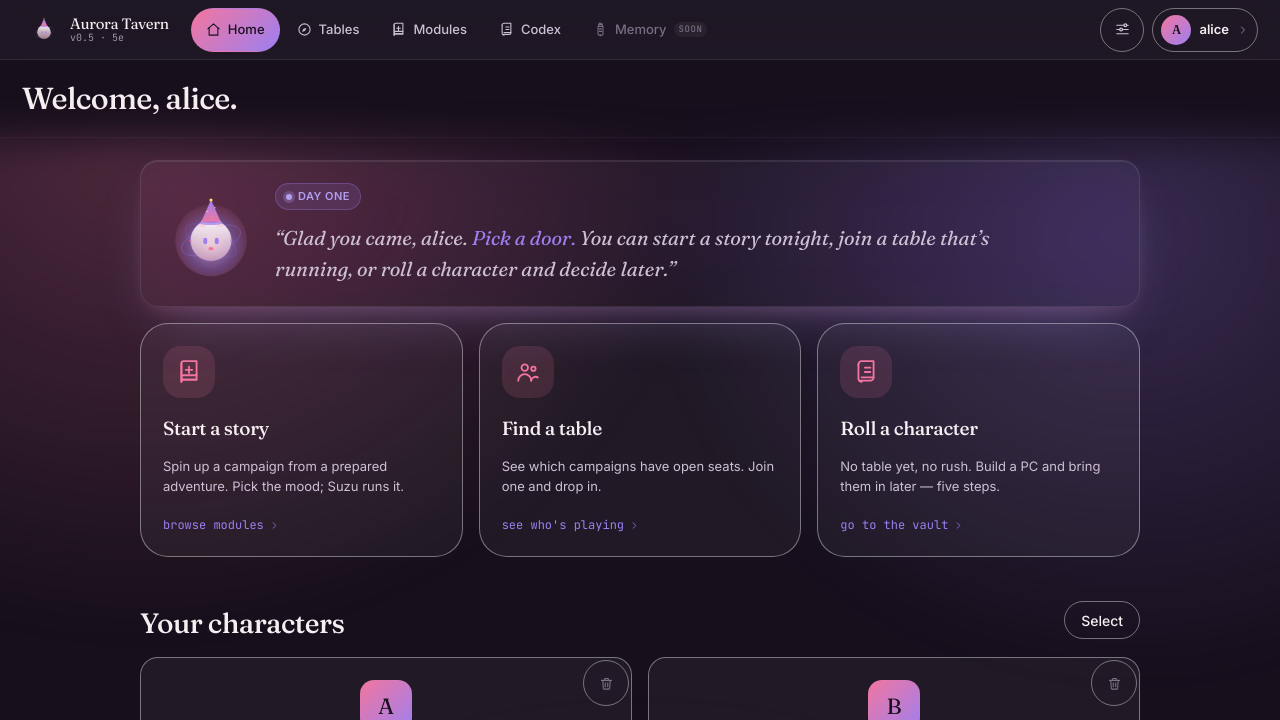
Test case: Bulk delete — characters grid, select mode › partial failure: one delete rejects → toast reports the failure count, loop does not throw
Click the button "Select".
click(1102, 620)  # box [1064, 601, 1140, 639]
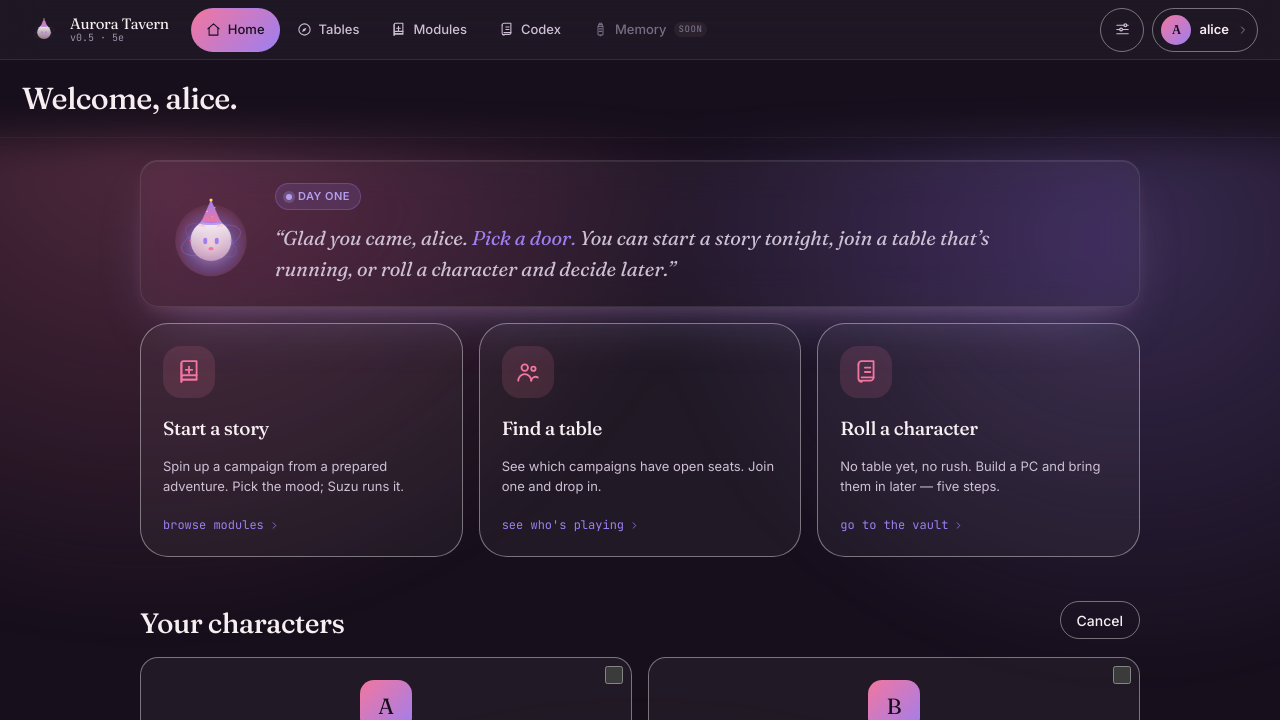
Click the checkbox named "select aria".
click(614, 675)  # box [605, 666, 623, 684]
(page scrolled)
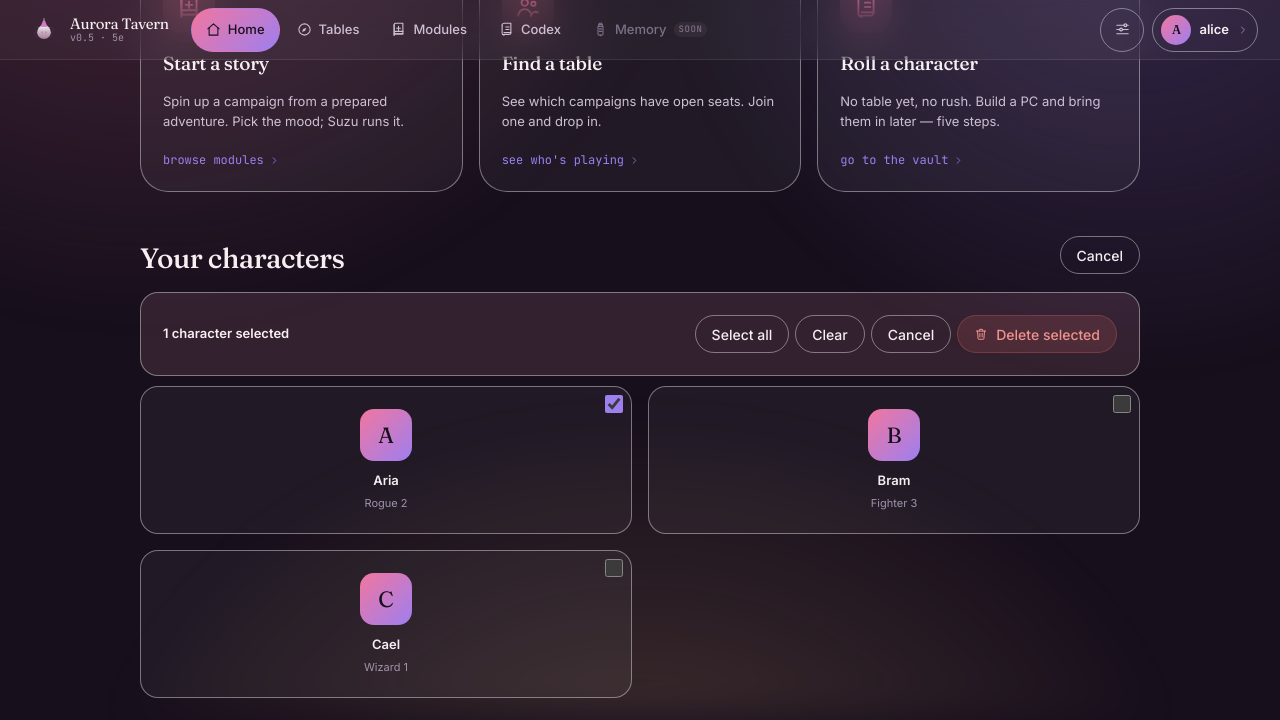
Click the checkbox named "select bram".
click(1122, 404)  # box [1113, 395, 1131, 413]
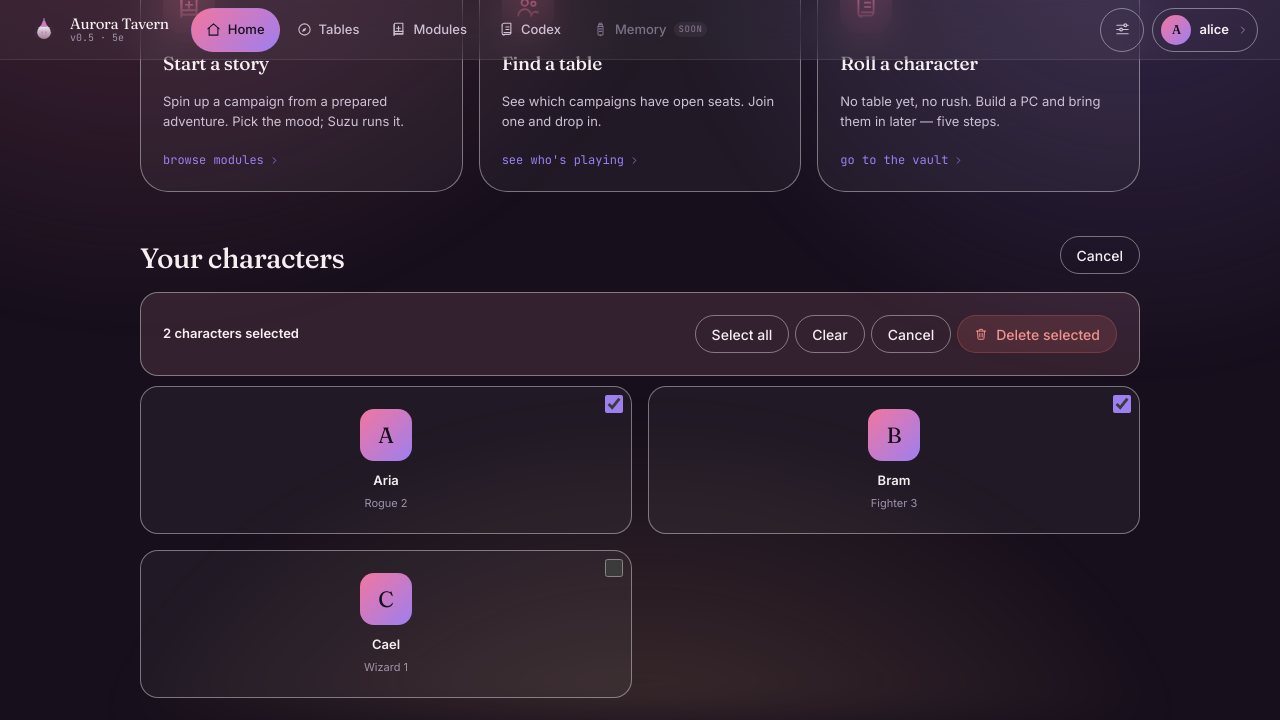
Click the button "Delete selected".
click(1037, 334)  # box [957, 315, 1117, 353]
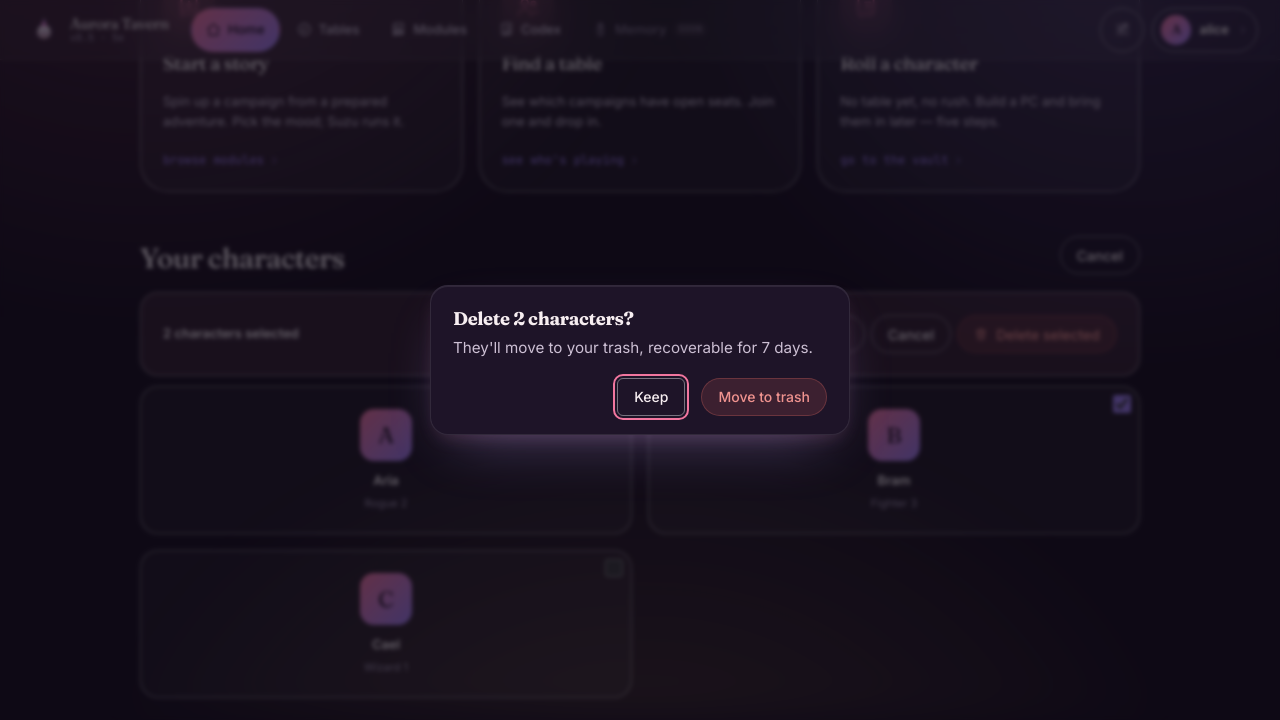
expect the dialog is shown: met, box [430, 285, 850, 435]
Click the button "Move to trash".
click(764, 397)  # box [702, 378, 827, 416]
(page scrolled)
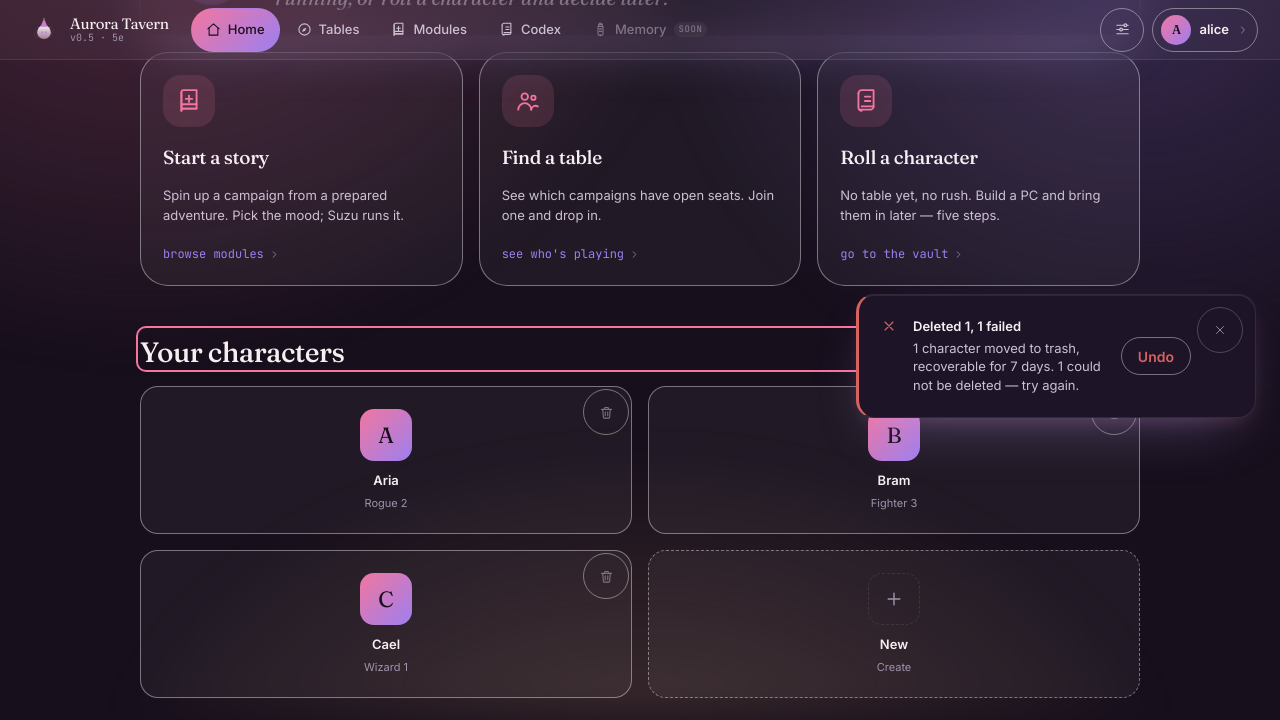
expect the text "Deleted 1, 1 failed" is shown: met, box [913, 318, 1021, 334]
